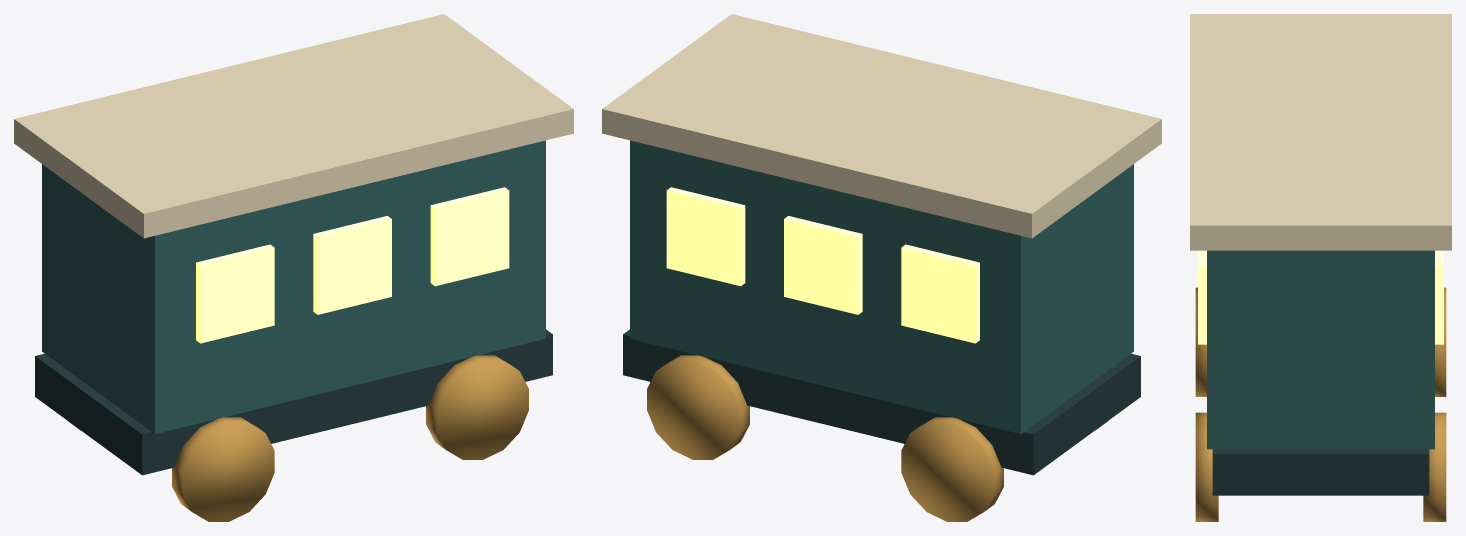
Rendered from wagon-0.glb.
3 views of the same model, side by side, from view 1: azimuth 30°, elevation 25°; view 2: azimuth 150°, elevation 25°; view 3: azimuth 270°, elevation 25° (orthographic).
Parts seen in each view (by area): view 1: wagon-0; view 2: wagon-0; view 3: wagon-0.
Boxes of the visible parts, x1,y1,x2,y2 form: wagon-0: [14, 14, 573, 521]; wagon-0: [602, 14, 1161, 521]; wagon-0: [1190, 14, 1451, 521].
Bounding box in the file's own units: 2.2 × 1.62 × 1.15.
